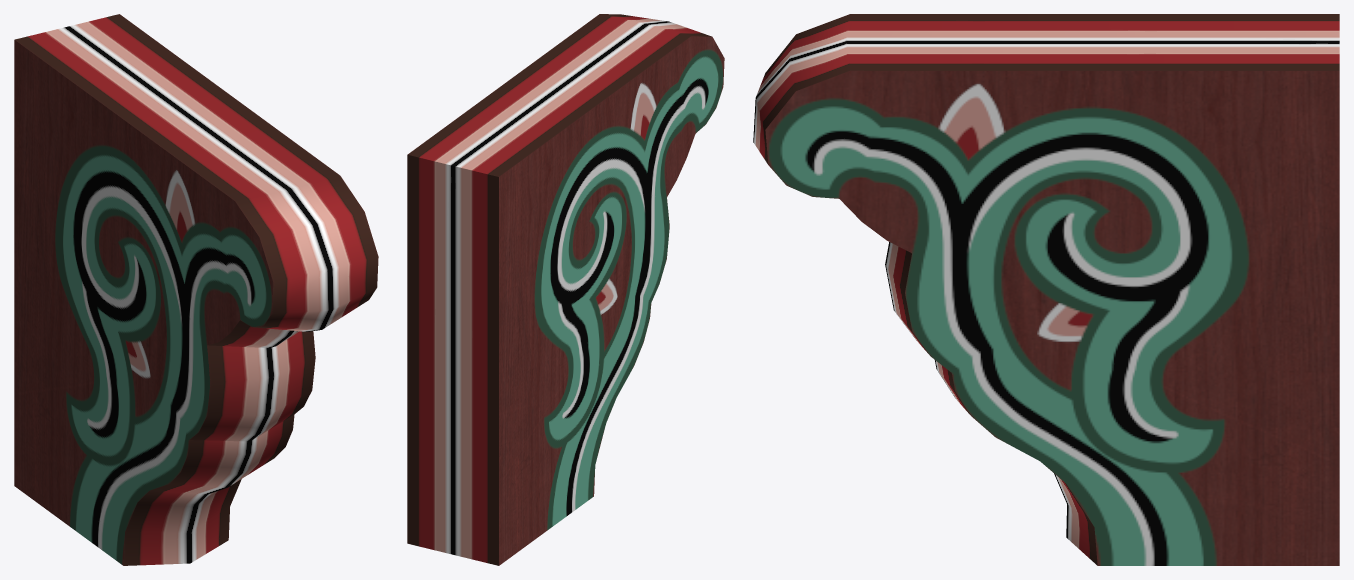
Rendered from SM_Boaji02D.fbx.
3 views of the same model, side by side, from view 1: azimuth 30°, elevation 25°; view 2: azimuth 150°, elevation 25°; view 3: azimuth 270°, elevation 25° (orthographic). The views are drawn at different scales.
Parts seen in each view (by area): view 1: SM_Boaji02D; view 2: SM_Boaji02D; view 3: SM_Boaji02D.
Part boxes in pixels (left/top/right/bottom): SM_Boaji02D: left=14, top=14, right=378, bottom=565; SM_Boaji02D: left=407, top=14, right=724, bottom=565; SM_Boaji02D: left=753, top=14, right=1339, bottom=565.
Bounding box in the file's own units: 9.96 × 43.37 × 40.39.
Materials: 1 (1 with a texture image).
